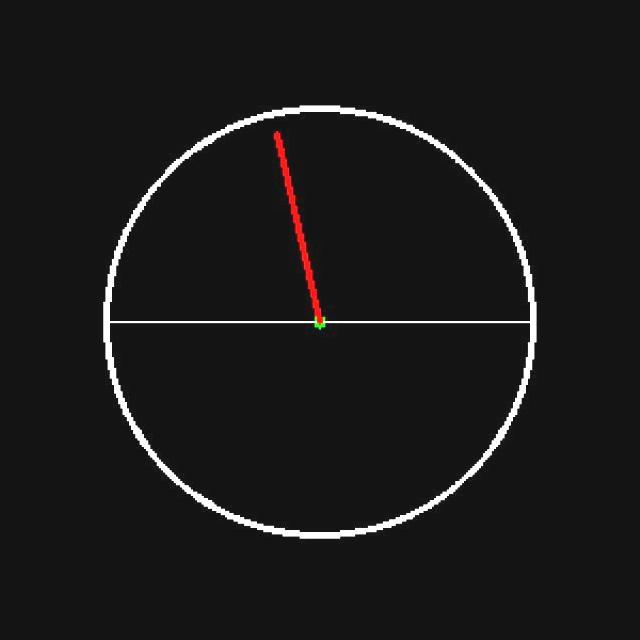Needle_Tip: (224, 112, 331, 162)
Needle_base: (296, 282, 349, 361)
